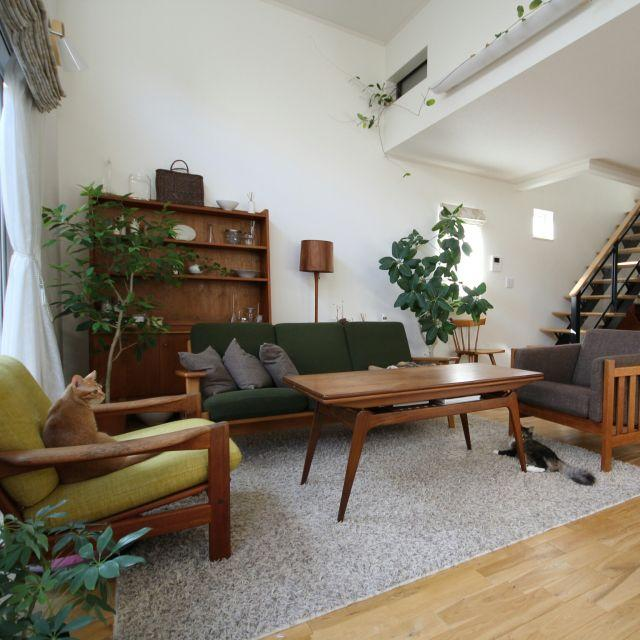vintage chair: (3, 350, 248, 570), (510, 323, 640, 472)
vintage desk: (284, 360, 536, 521)
vintage shelf: (83, 183, 273, 325)
vintage sofa: (182, 315, 414, 362)
